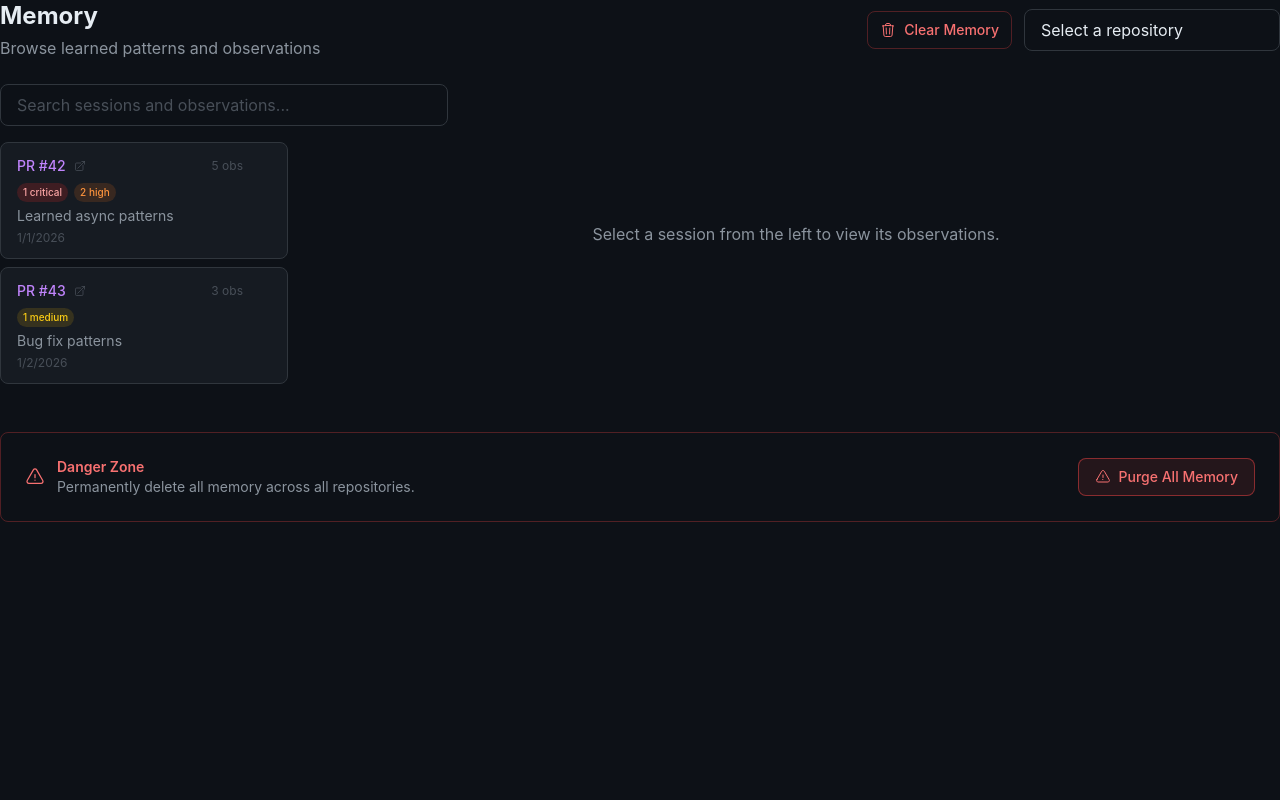
Memory page — Tier 1 (delete observation) › shows success toast after delete succeeds
Click the text "PR #42": coordinates (41, 166) [17,156,66,176]
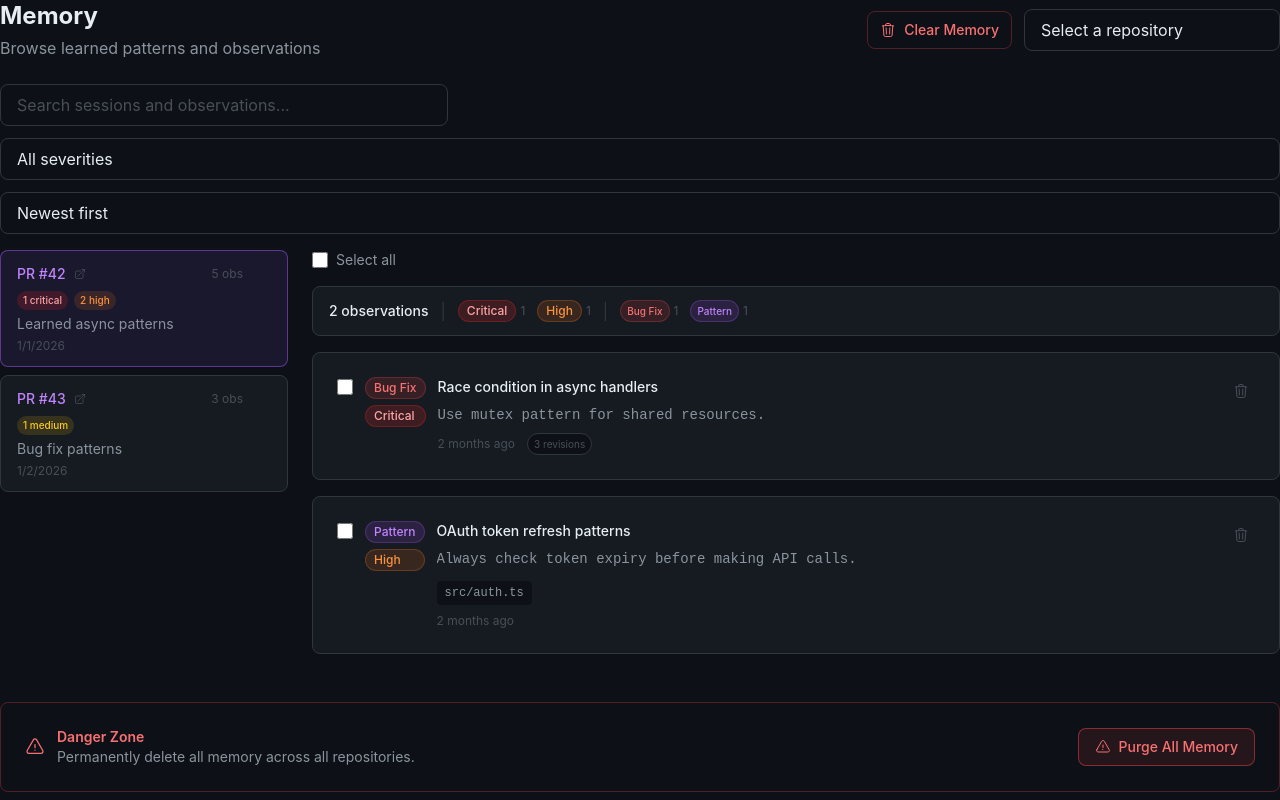
Click the button titled "Delete observation": coordinates (1241, 391) [1227,377,1255,405]
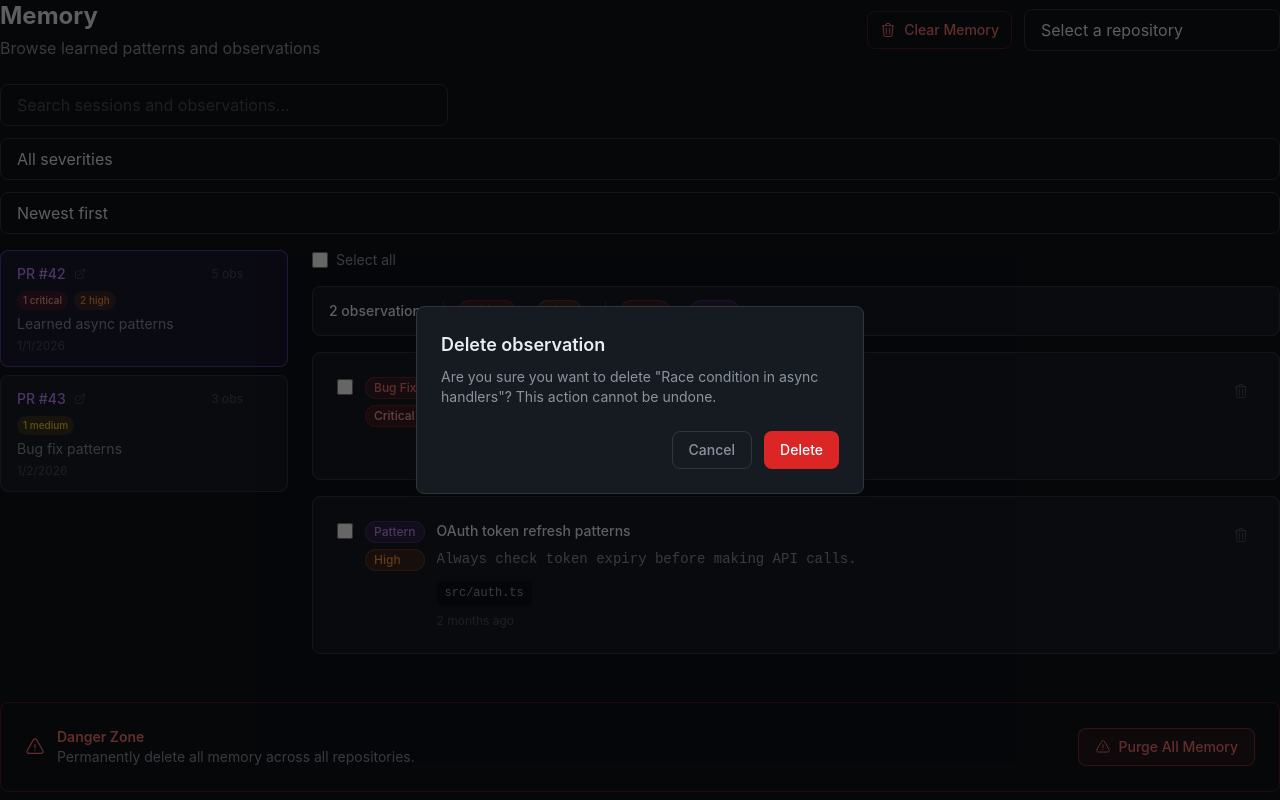
Click the button "Delete": coordinates (802, 450) [764,431,839,469]
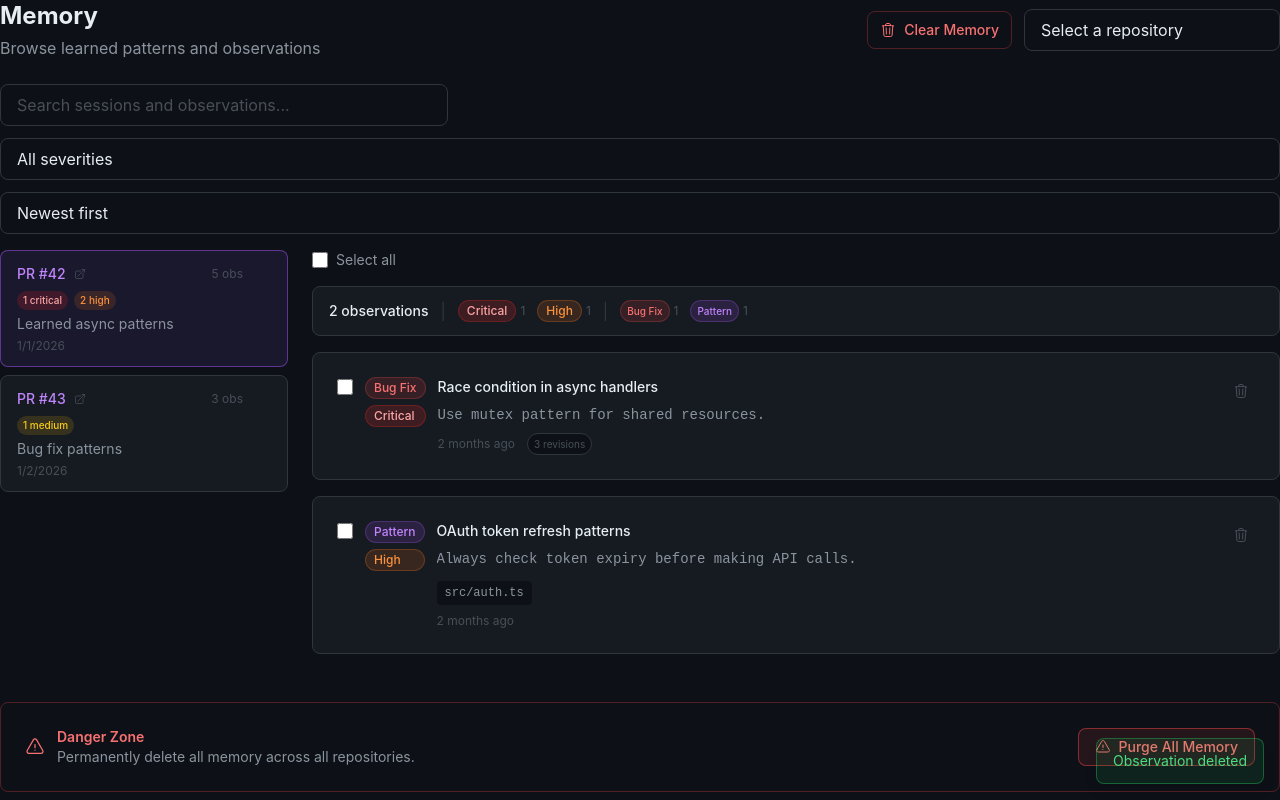
Result: the text "Observation deleted" is shown at [1096,738,1264,784]
